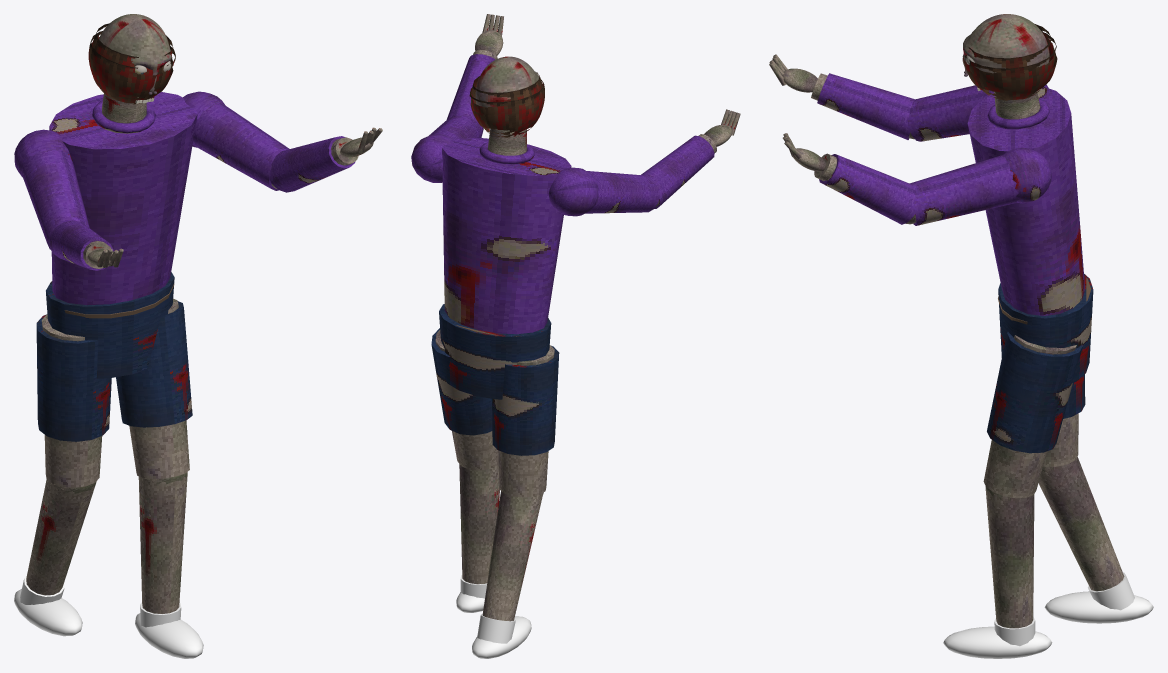
Rendered from Zombie_028.glb.
The picture shows the model from 3 angles, left to right: view 1: azimuth 30°, elevation 25°; view 2: azimuth 150°, elevation 25°; view 3: azimuth 270°, elevation 25°; orthographic projection. The views are drawn at different scales.
Visible parts, largest first — view 1: Zombie_028, object 18, object 12, object 45, object 4, object 44; view 2: Zombie_028, object 4, object 18, object 45, object 12, object 44, object 13; view 3: Zombie_028, object 4, object 12, object 18, object 45, object 44, object 5.
Part boxes in pixels (x1,y1,x2,y2): Zombie_028: (14, 91, 289, 658); object 18: (99, 14, 171, 92); object 12: (269, 136, 355, 192); object 45: (88, 31, 175, 104); object 4: (48, 220, 113, 270); object 44: (92, 23, 173, 98); Zombie_028: (411, 115, 659, 658); object 4: (641, 135, 714, 208); object 18: (475, 56, 539, 130); object 45: (469, 80, 544, 137); object 12: (446, 54, 495, 135); object 44: (471, 71, 542, 134); object 13: (475, 30, 503, 55); Zombie_028: (907, 84, 1153, 658); object 4: (817, 73, 914, 139); object 12: (819, 154, 915, 224); object 18: (962, 14, 1049, 92); object 45: (962, 32, 1057, 100); object 44: (965, 24, 1055, 95); object 5: (782, 68, 817, 92).
Size of the model in its own units: 0.9107 by 1.94 by 1.08.
16 materials, 6 textured.
